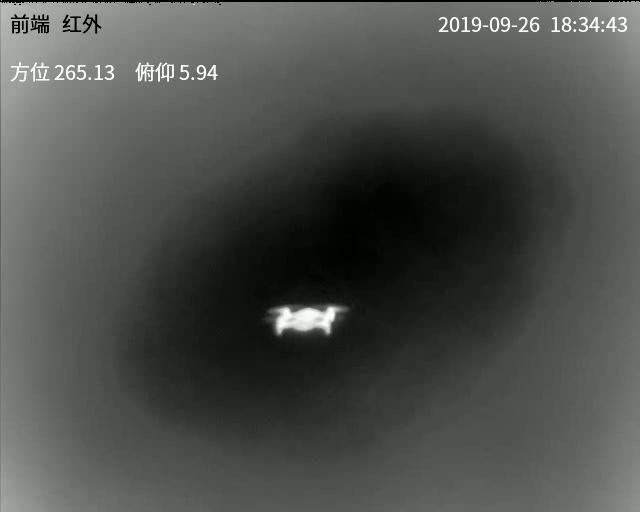DRONE: (264, 304, 347, 338)
